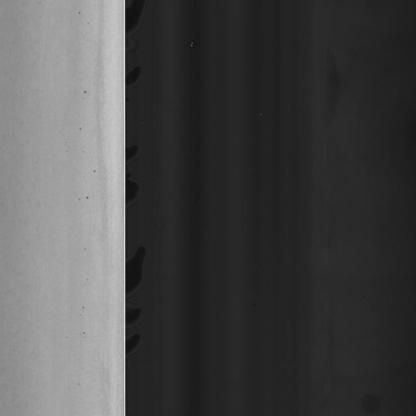inclusion: (78, 191, 90, 208), (79, 86, 90, 104), (90, 160, 99, 176)
silk_spot: (0, 6, 38, 373)
